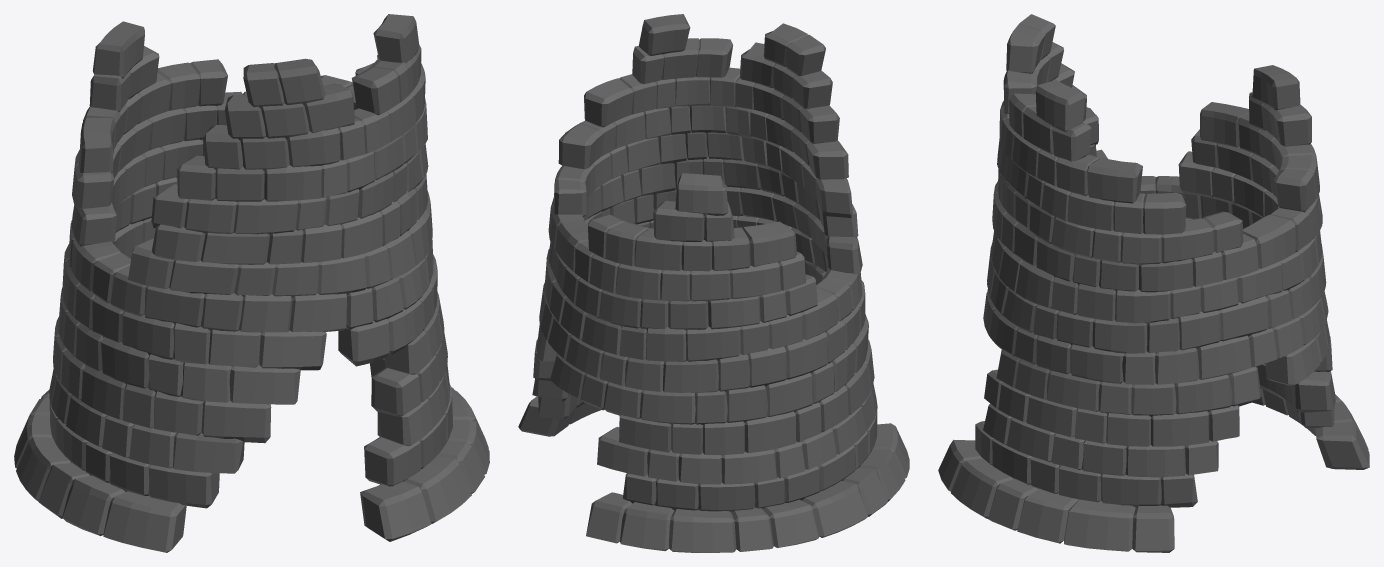
Rendered from FALLENTOWER_crooked.fbx.
3 views of the same model, side by side, from view 1: azimuth 30°, elevation 25°; view 2: azimuth 150°, elevation 25°; view 3: azimuth 270°, elevation 25° (orthographic). The views are drawn at different scales.
Visible parts, largest first — view 1: Cube; view 2: Cube; view 3: Cube.
Part boxes in pixels (x1,y1,x2,y2): Cube: (14, 14, 489, 552); Cube: (518, 14, 909, 552); Cube: (938, 14, 1369, 552).
Size of the model in its own units: 1347 by 1447 by 1346.
